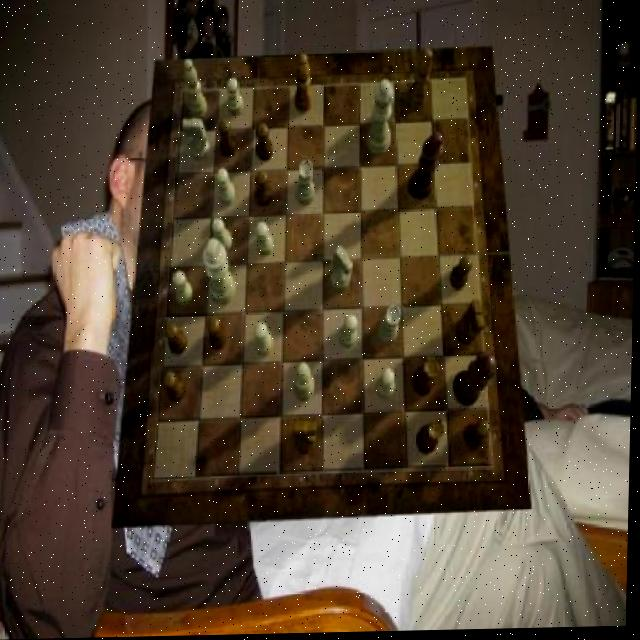bishop: (408, 51, 433, 110), (296, 54, 314, 113)
black-bishop: (407, 135, 444, 202)
black-king: (456, 302, 487, 348), (294, 422, 319, 455)
black-knight: (450, 256, 474, 291), (166, 323, 190, 357), (208, 317, 230, 352), (465, 422, 492, 450), (165, 372, 189, 403), (218, 121, 236, 159), (256, 124, 273, 163), (256, 172, 274, 208)
black-pawn: (453, 353, 498, 408)
black-queen: (416, 420, 446, 457), (413, 358, 440, 399)
black-rook: (183, 60, 208, 119), (296, 363, 317, 404)
white-bishop: (202, 239, 237, 307)
white-king: (182, 118, 210, 162), (330, 246, 354, 292)
white-knight: (216, 168, 237, 206), (213, 219, 235, 254), (173, 272, 194, 307), (227, 79, 245, 118), (339, 317, 359, 351), (256, 324, 276, 358), (255, 223, 275, 257), (378, 370, 396, 403)
white-pawn: (367, 81, 394, 158)
white-queen: (378, 308, 402, 347), (296, 162, 316, 208)
